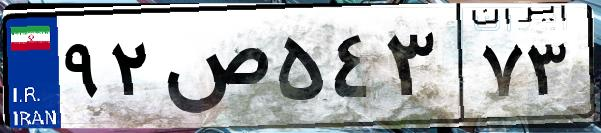2: (110, 28, 158, 98)
3: (385, 28, 445, 110), (525, 38, 570, 115)
4: (330, 28, 385, 110)
5: (270, 28, 330, 110)
7: (475, 38, 525, 113)
9: (57, 26, 110, 100)
ص: (158, 20, 270, 120)
